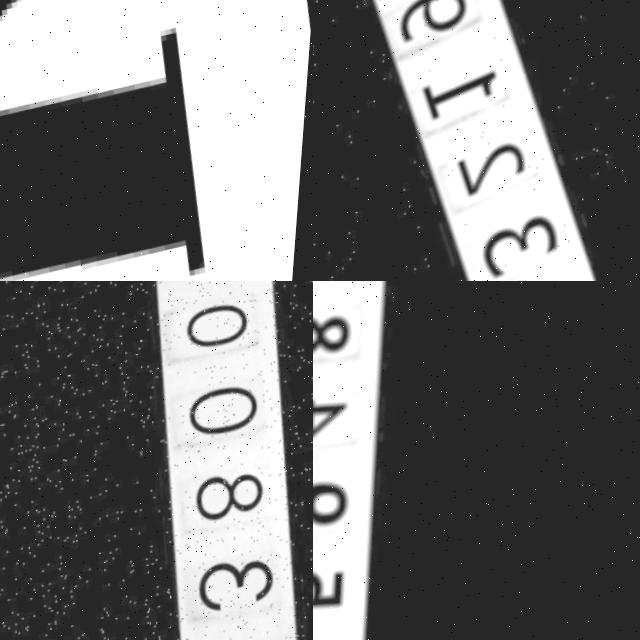0: (175, 371, 287, 460), (173, 291, 275, 370)
1: (414, 53, 524, 140)
2: (450, 132, 551, 211)
3: (187, 542, 306, 636), (472, 205, 584, 281)
4: (313, 383, 374, 463)
5: (313, 553, 373, 640)
8: (185, 459, 294, 544), (313, 297, 377, 382)
9: (385, 0, 486, 58), (313, 464, 377, 554)
V: (0, 0, 265, 281)
